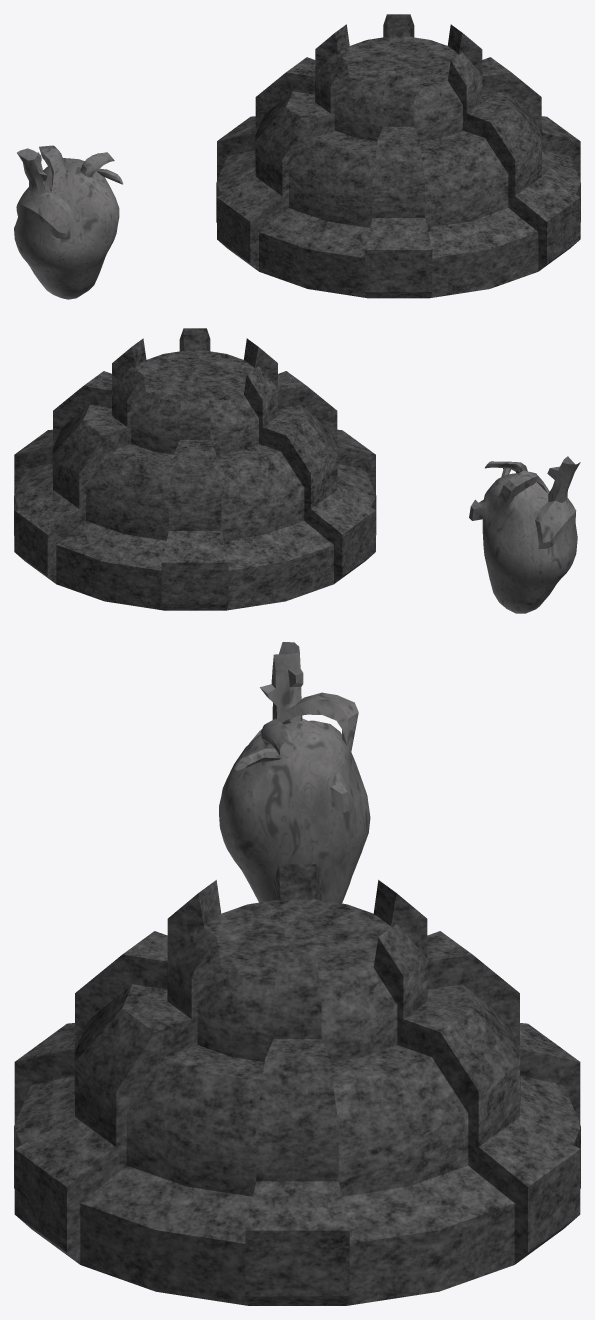
File: Hearth.fbx
3 views of the same model, one above another, from view 1: azimuth 30°, elevation 25°; view 2: azimuth 150°, elevation 25°; view 3: azimuth 270°, elevation 25° (orthographic). The views are drawn at different scales.
Parts seen in each view (by area): view 1: Holder, Hearth; view 2: Holder, Hearth; view 3: Holder, Hearth.
Boxes of the visible parts, x1,y1,x2,y2 form: Holder: (216, 14, 580, 298); Hearth: (14, 145, 123, 299); Holder: (14, 328, 376, 610); Hearth: (469, 456, 580, 613); Holder: (14, 864, 580, 1305); Hearth: (219, 642, 370, 903).
Bounding box in the file's own units: 3.48 × 1.09 × 2.
